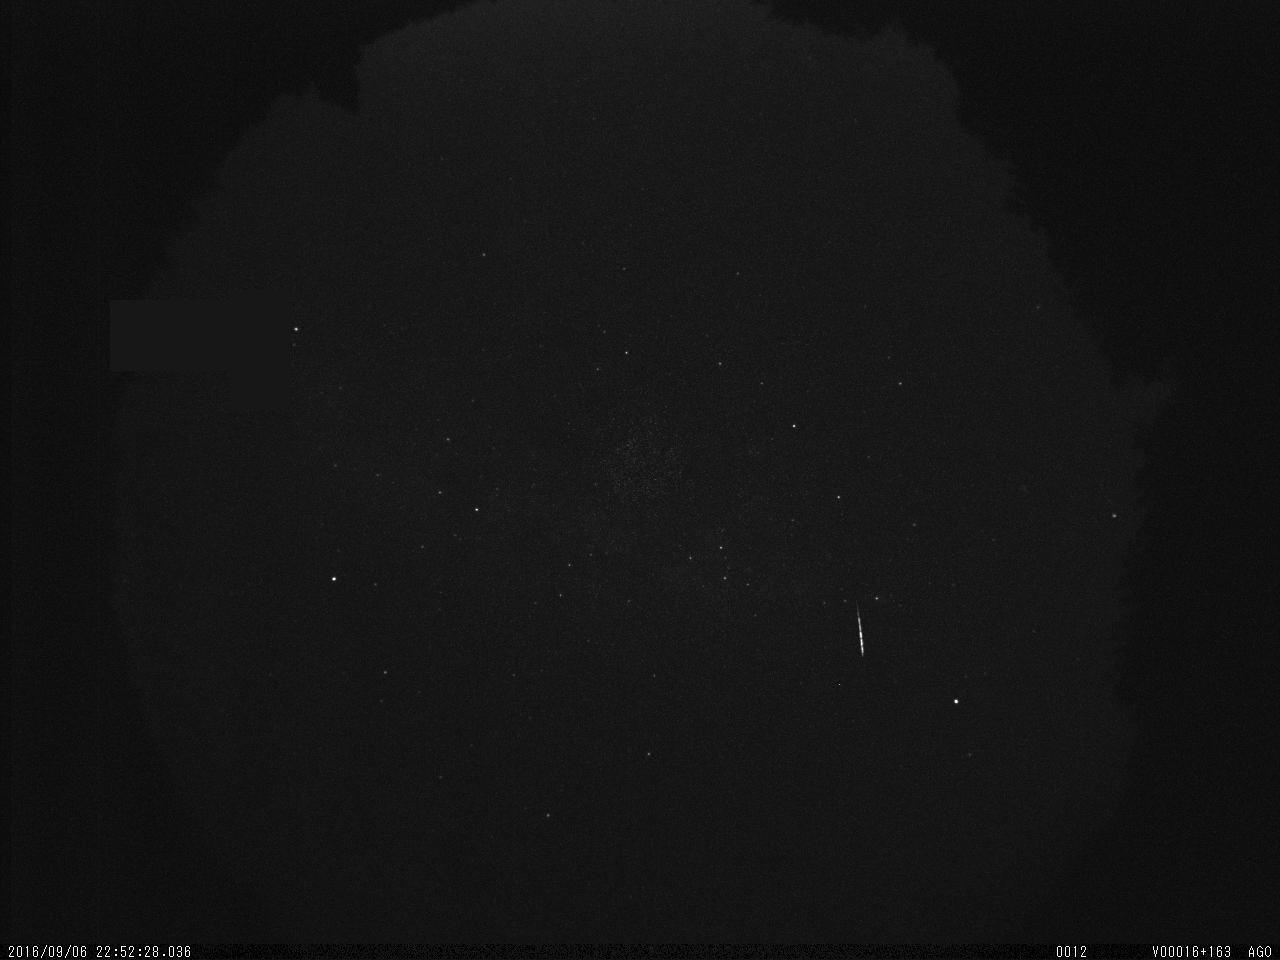meteor: (846, 592, 877, 665)
